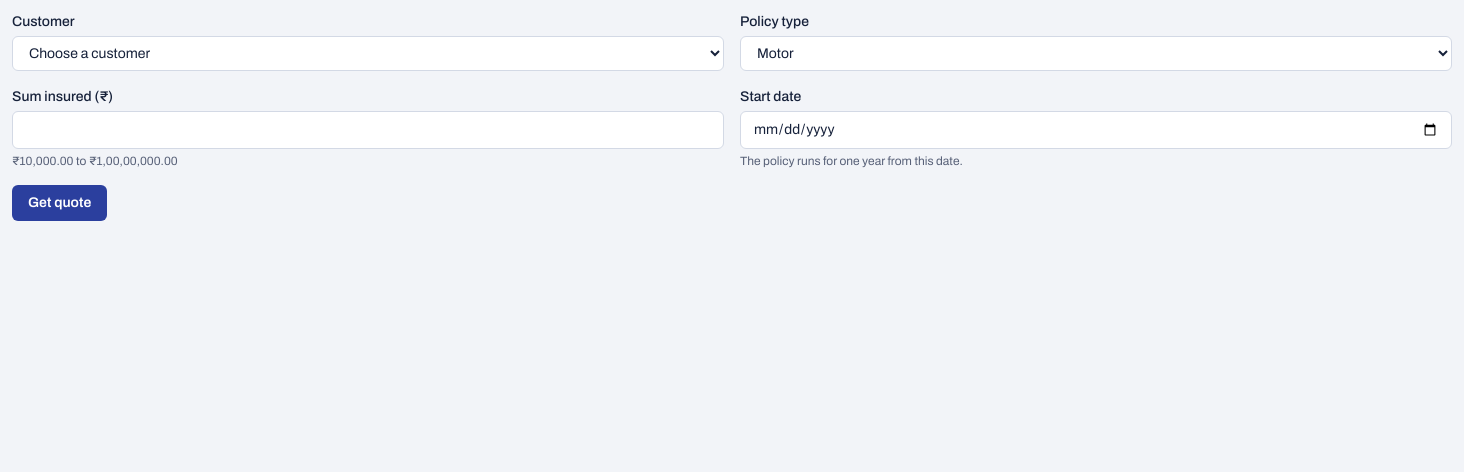
Test: PolicyForm quote and issue › shows the server message when issuing is refused with a 403
The width and height of the screenshot is (1464, 472).
Select "Nisha Rao" in the dropdown labelled "Customer" at (368, 54), box top-left (12, 36), bottom-right (724, 71)
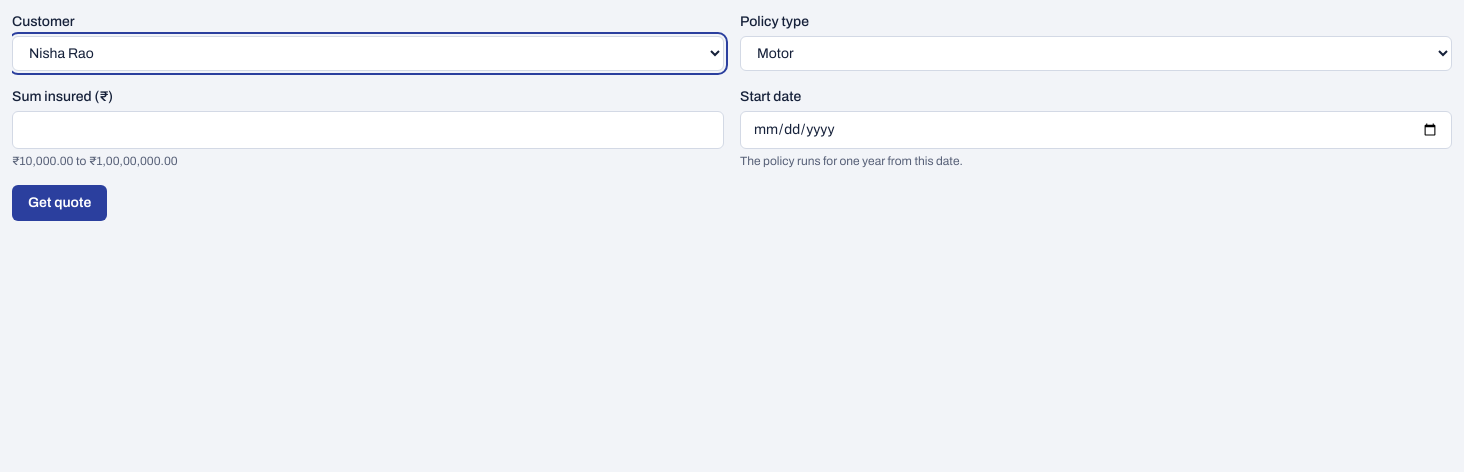
Select "Health" in the dropdown labelled "Policy type" at (1096, 54), box top-left (740, 36), bottom-right (1452, 71)
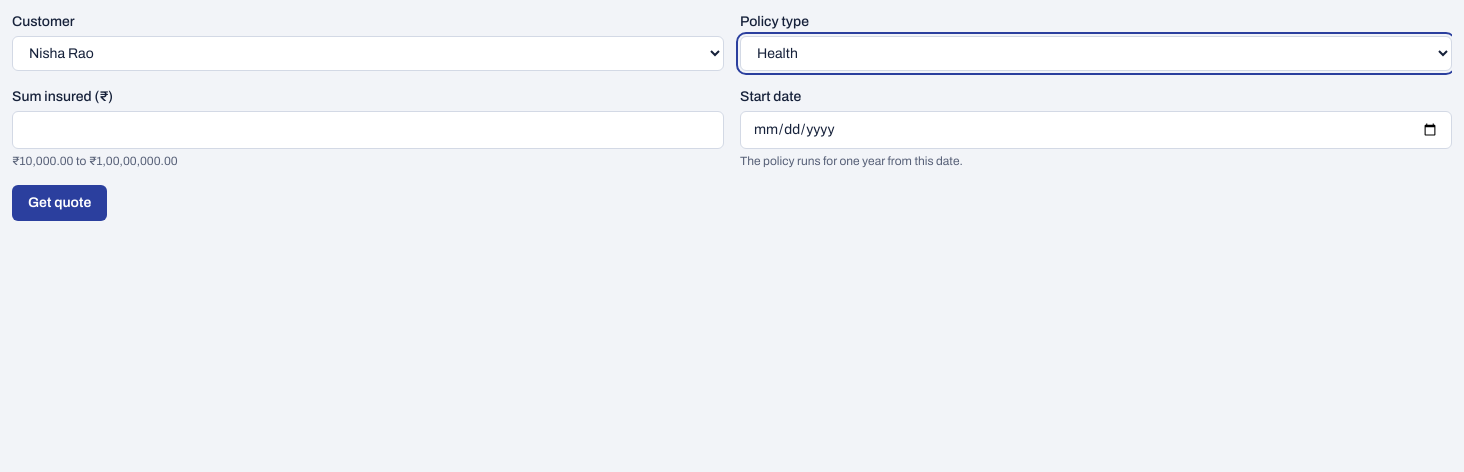
Type "500000" into the number field labelled "Sum insured (₹)" at (368, 130), box top-left (12, 111), bottom-right (724, 149)
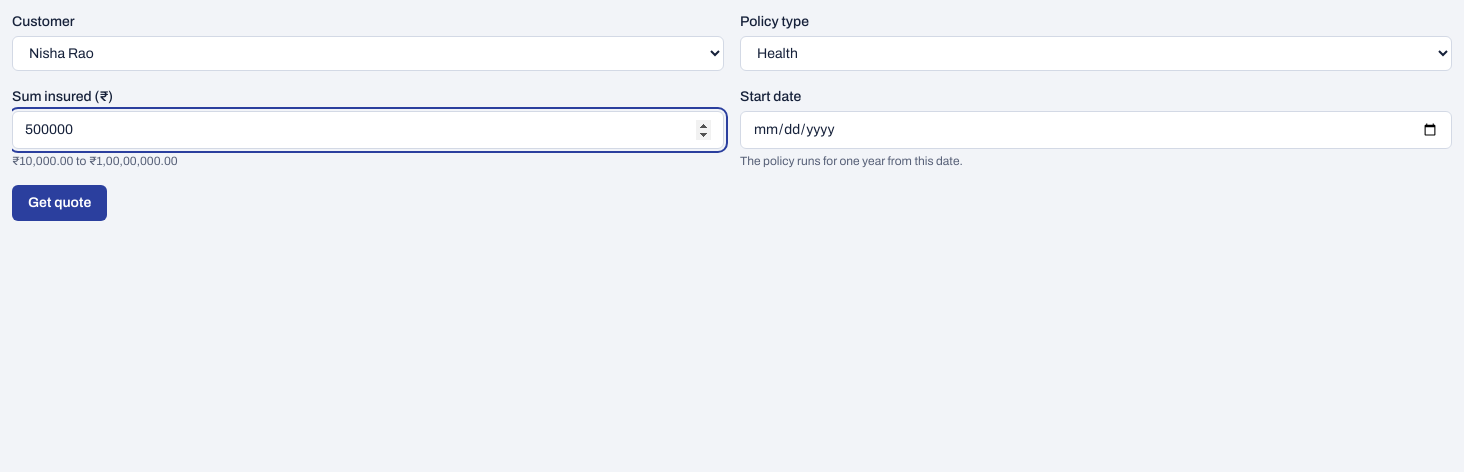
Type "2026-11-01" into the date field labelled "Start date" at (1096, 130), box top-left (740, 111), bottom-right (1452, 149)
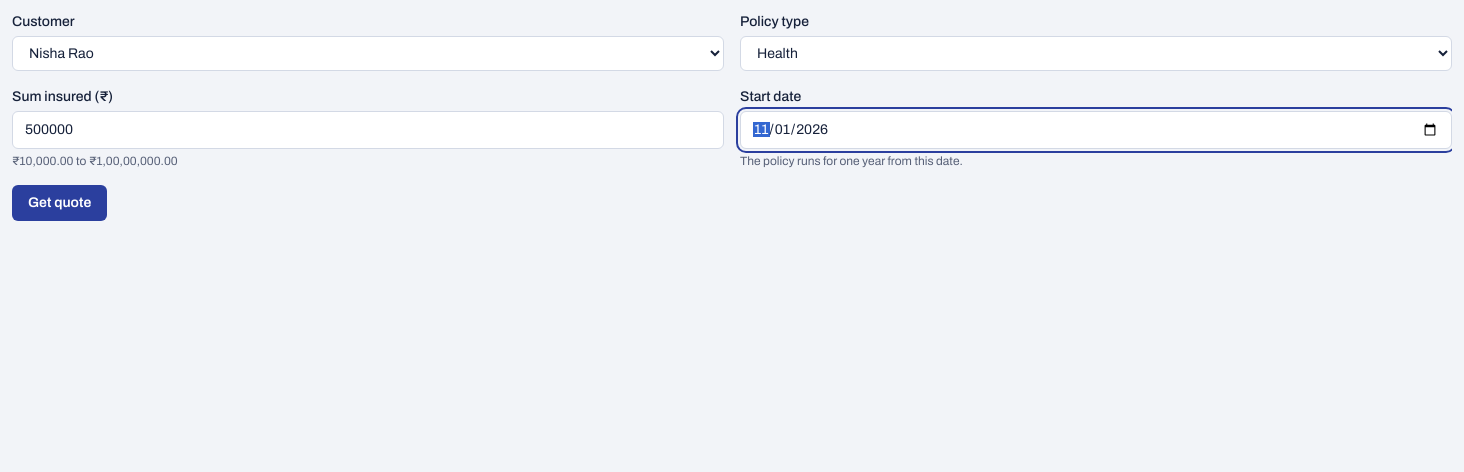
Click the button "Get quote" at (60, 203), box top-left (12, 185), bottom-right (107, 221)
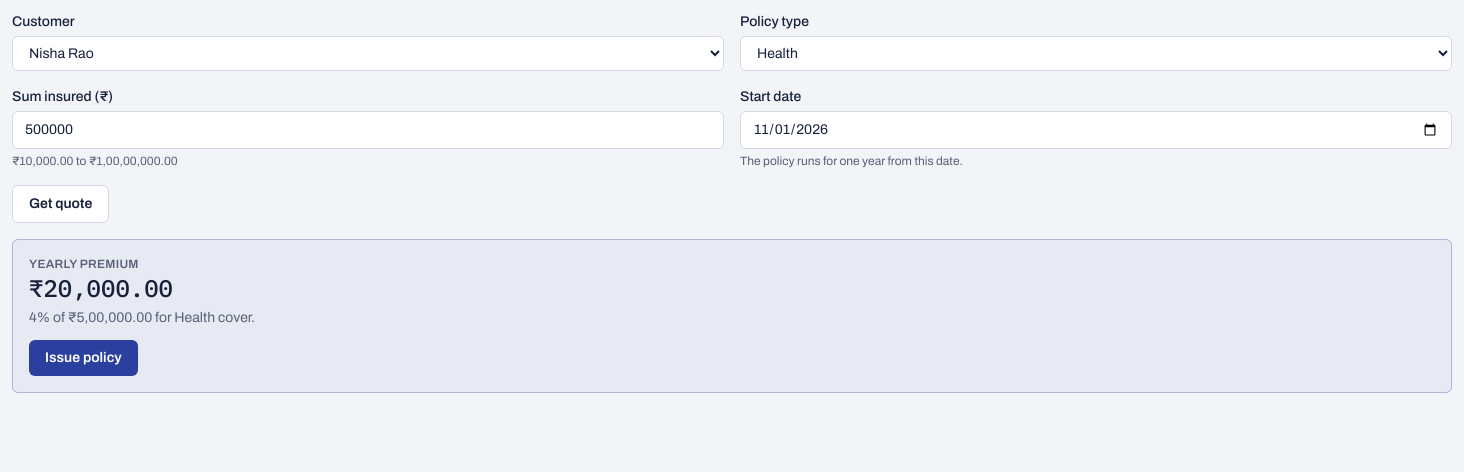
Click the button "Issue policy" at (83, 358), box top-left (29, 340), bottom-right (138, 376)
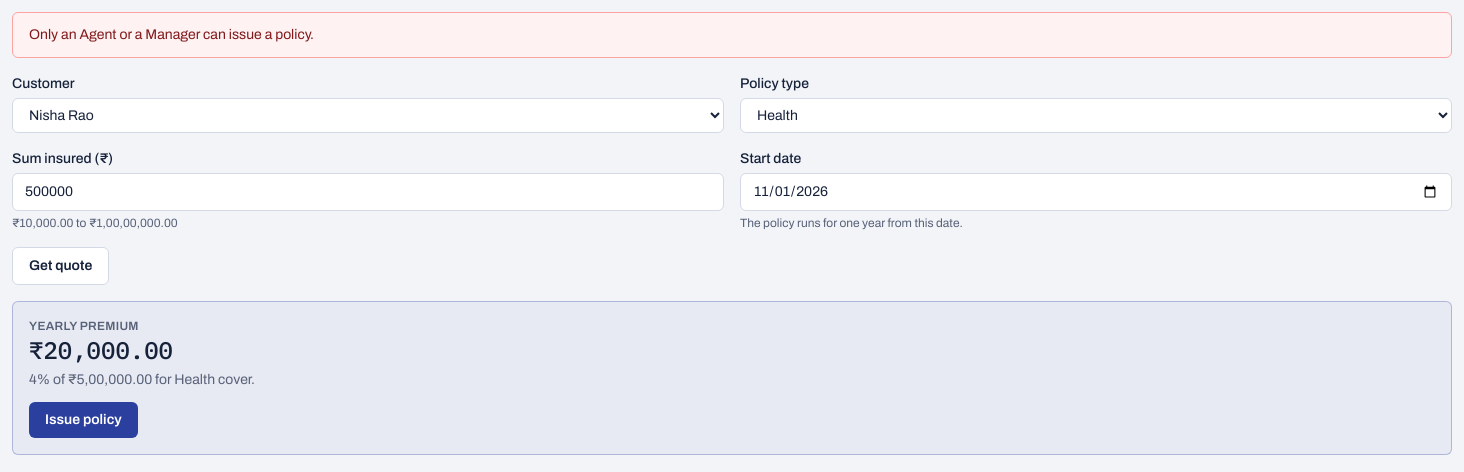
Check: the message reads "Only an Agent or a Manager can issue a policy.", box top-left (29, 27), bottom-right (314, 42)
